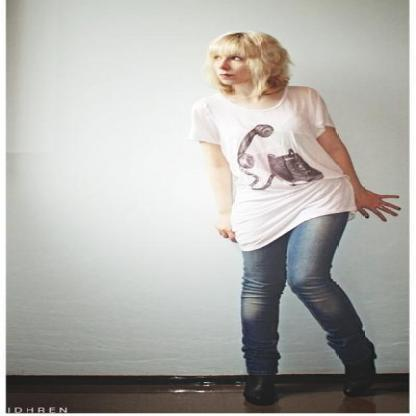pants: (242, 212, 376, 372)
shirt: (194, 81, 356, 250)
shoe: (237, 363, 381, 405)
